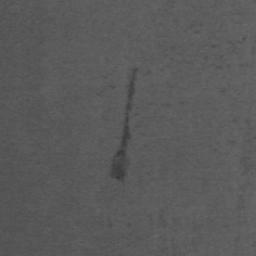Iron scale compression: (110, 68, 137, 182)
